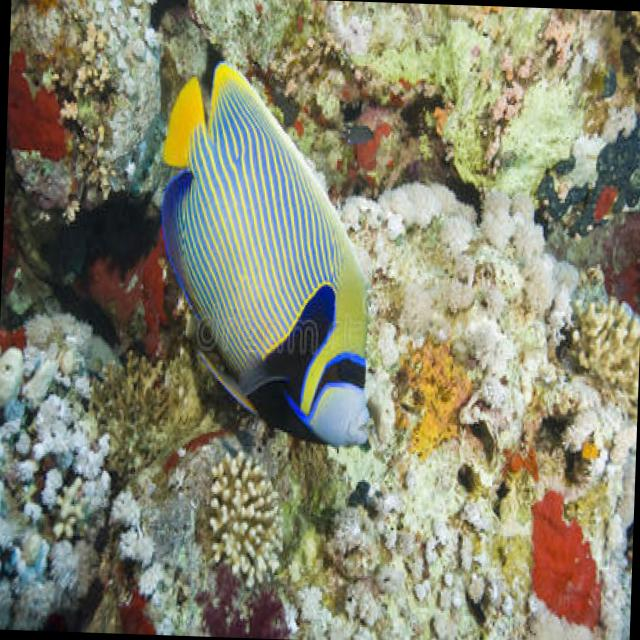AngelFish: (144, 51, 386, 450)
